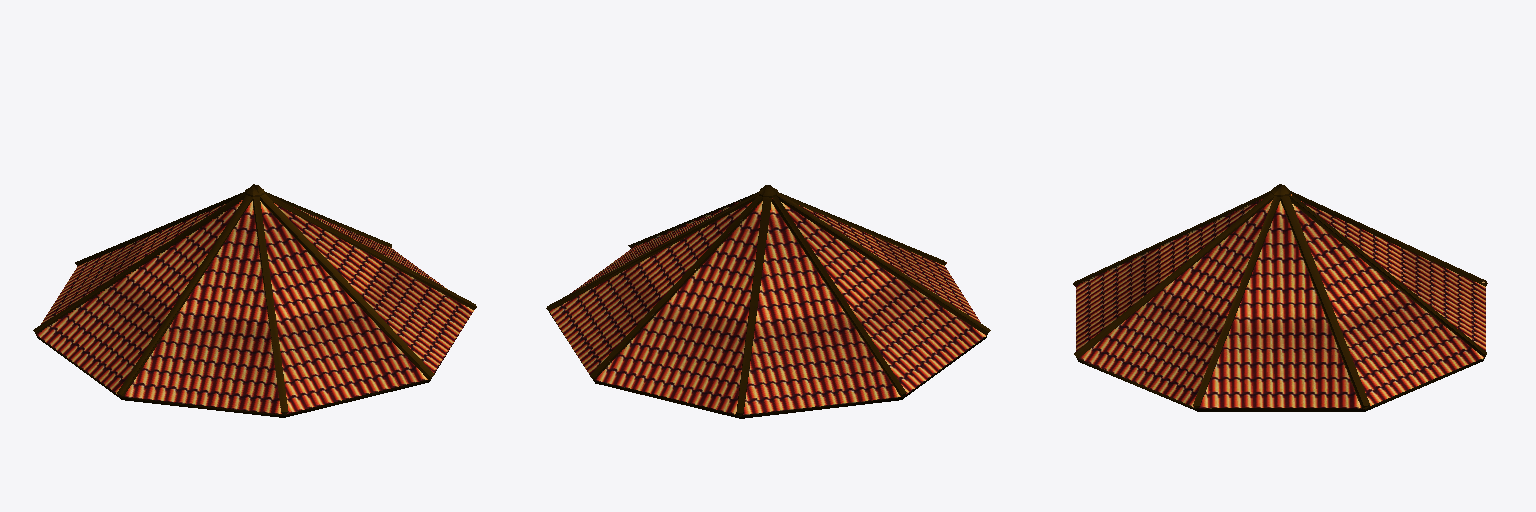
3 views of the same model, side by side, from view 1: azimuth 30°, elevation 25°; view 2: azimuth 150°, elevation 25°; view 3: azimuth 270°, elevation 25° (orthographic).
Parts seen in each view (by area): view 1: Group; view 2: Group; view 3: Group.
Part boxes in pixels (bbox=[...]): Group: bbox=[33, 184, 476, 417]; Group: bbox=[546, 185, 990, 418]; Group: bbox=[1073, 184, 1487, 411].
Size of the model in its own units: 173 by 64.93 by 173.
1 materials, 1 textured.